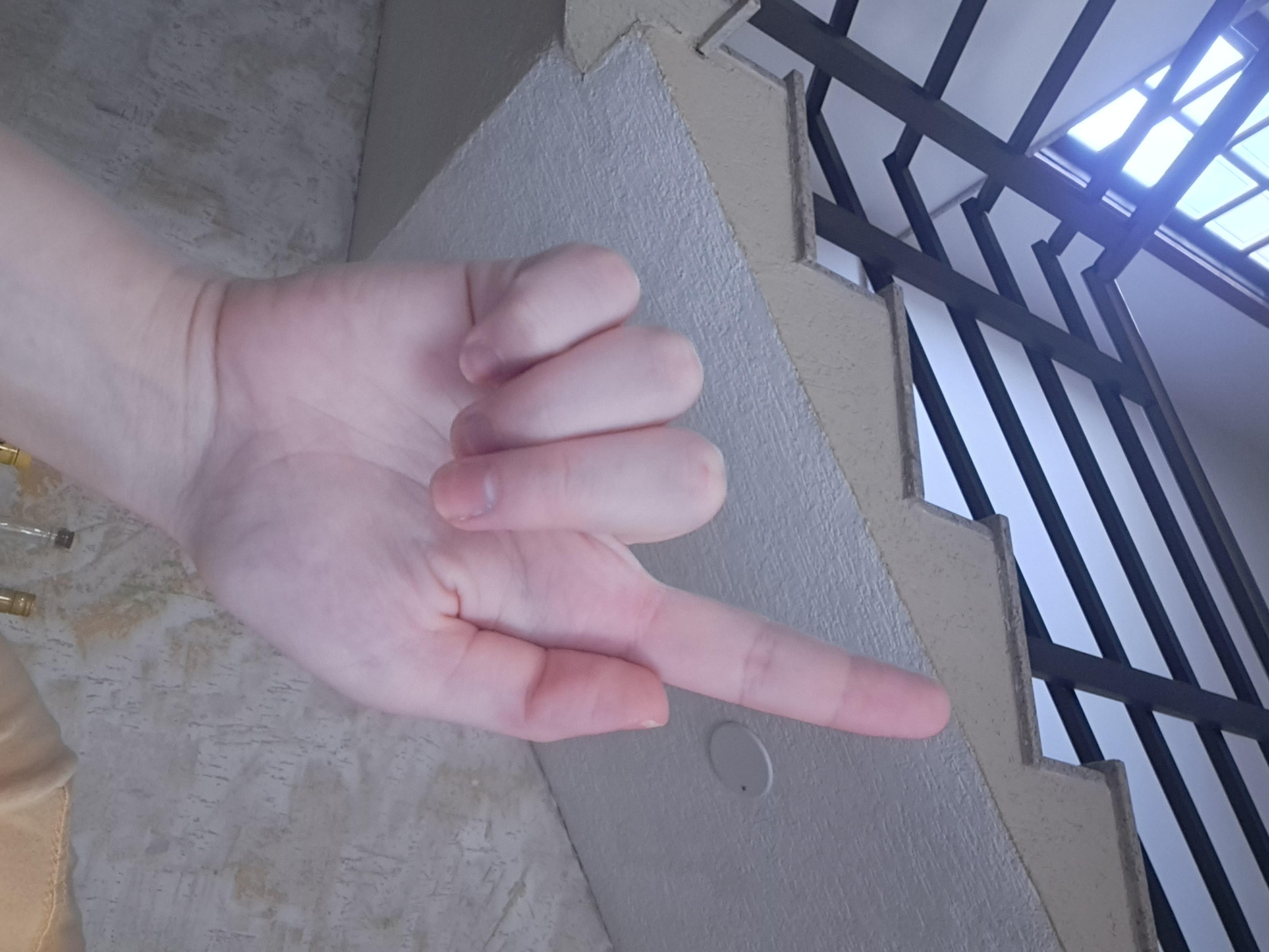G: (316, 233, 1063, 811)
